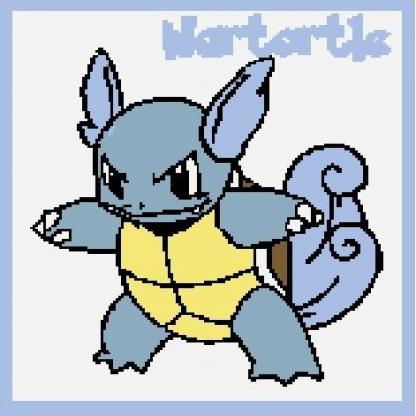Wartortle: (24, 60, 404, 391)
